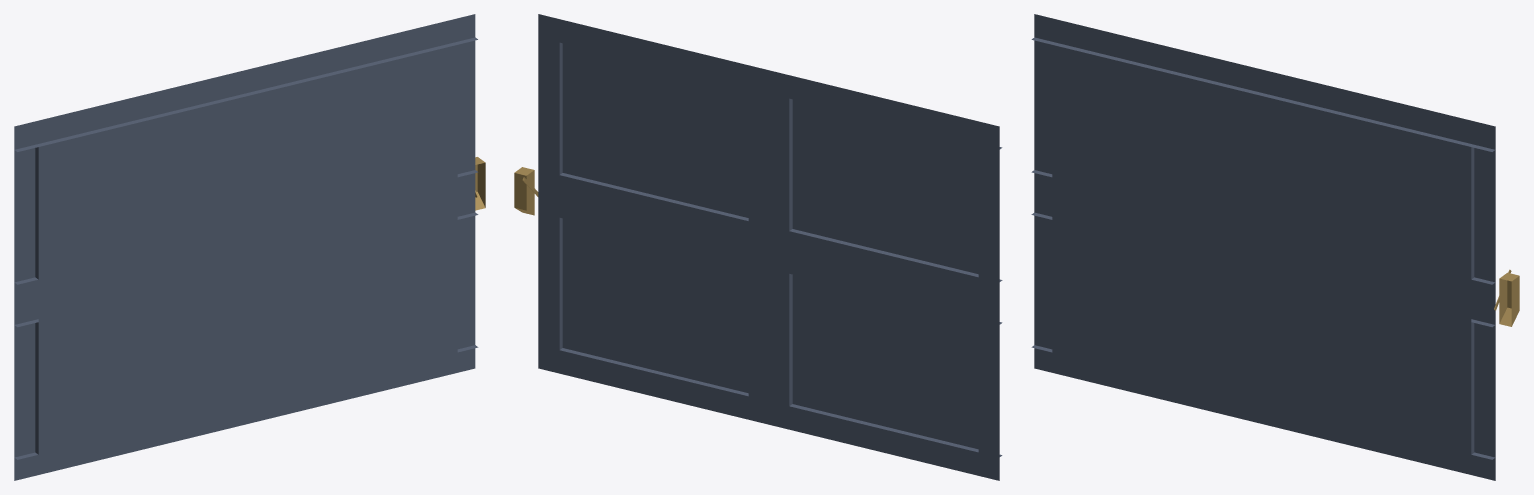
The model's file is Puerta.fbx.
3 renders of one model, left to right at view 1: azimuth 30°, elevation 25°; view 2: azimuth 150°, elevation 25°; view 3: azimuth 330°, elevation 25°, orthographic.
Visible parts, largest first — view 1: pCube123, pCube258; view 2: pCube123, pCube258; view 3: pCube123, pCube258.
Part boxes in pixels (x1,y1,x2,y2): pCube123: (14,14,478,480); pCube258: (475,157,485,210); pCube123: (538,14,1002,480); pCube258: (514,167,538,215); pCube123: (1031,14,1495,480); pCube258: (1494,269,1519,326).
Size of the model in its own units: 3.66 by 2.62 by 0.2448.
